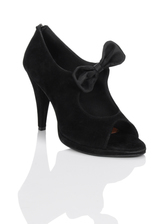shoes: (16, 20, 150, 157)
